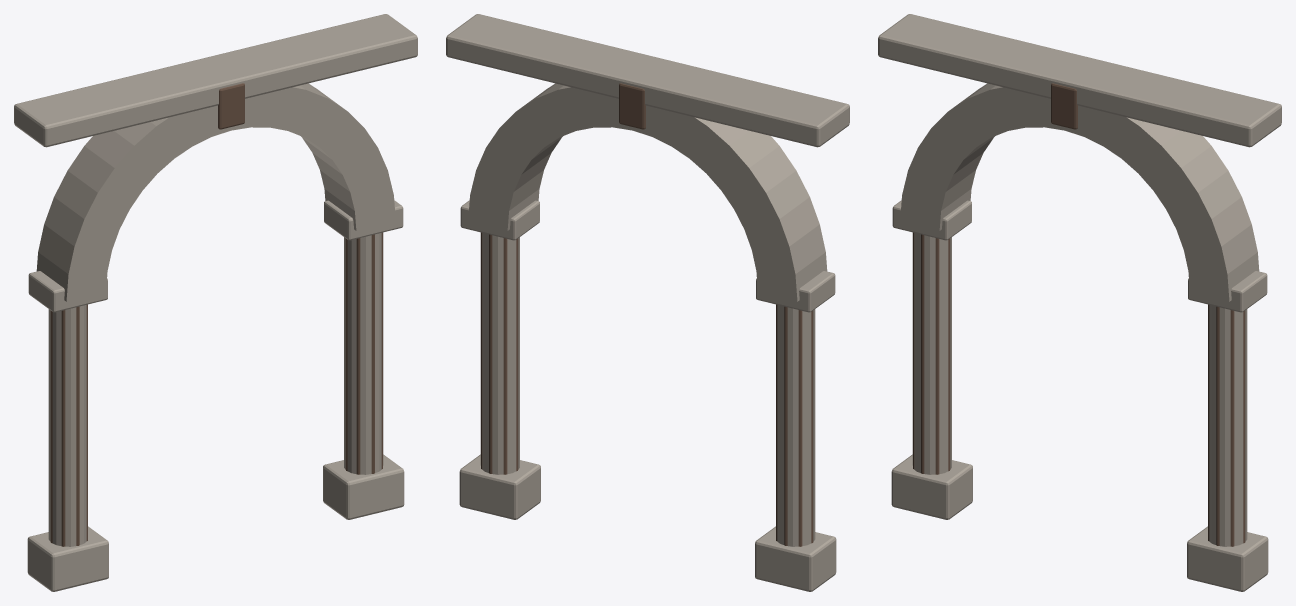
The picture shows the model from 3 angles, left to right: view 1: azimuth 30°, elevation 25°; view 2: azimuth 150°, elevation 25°; view 3: azimuth 330°, elevation 25°; orthographic projection.
Visible parts, largest first — view 1: archway; view 2: archway; view 3: archway.
Boxes of the visible parts, box(x1,y1,x2,y2) form: archway: box(14, 14, 417, 591); archway: box(446, 14, 849, 591); archway: box(878, 14, 1281, 591).
Bounding box in the file's own units: 2.84 × 3.42 × 0.44.
